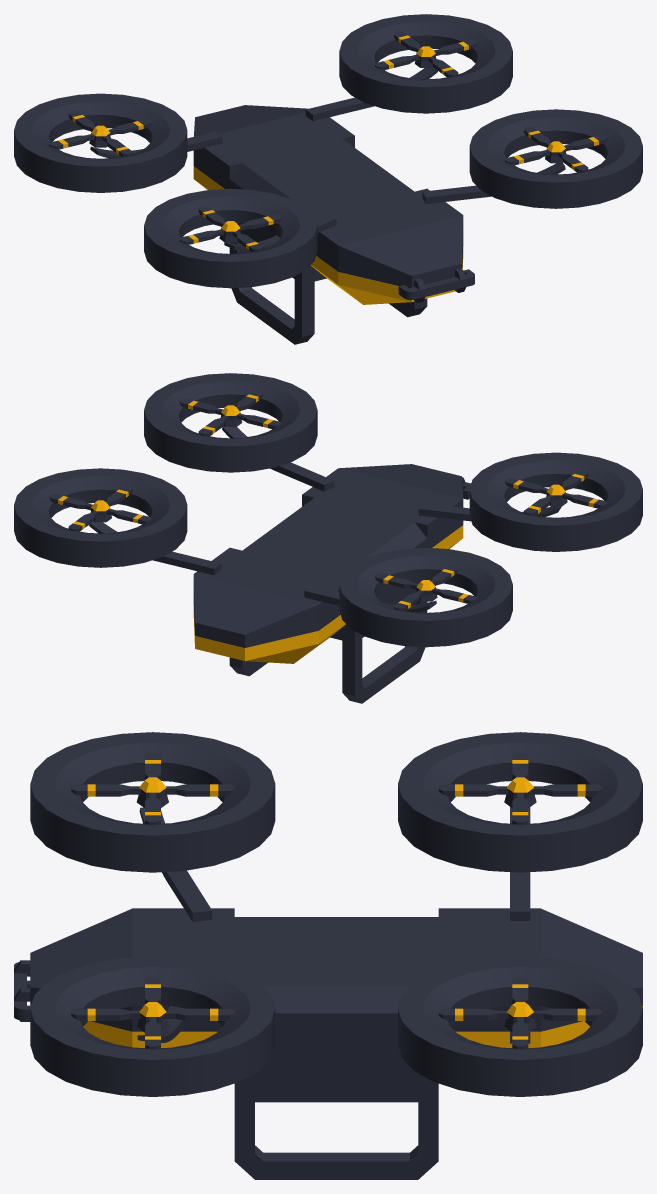
Rendered from Drone_01.fbx.
3 views of the same model, one above another, from view 1: azimuth 30°, elevation 25°; view 2: azimuth 150°, elevation 25°; view 3: azimuth 270°, elevation 25° (orthographic). The views are drawn at different scales.
Visible parts, largest first — view 1: turbine_ring% (×4), hull_lowerFrontPoint (×2), hull_cargoLower, propeller_quad (×4), gear_ski% (×4), bumper_detailed; view 2: turbine_ring% (×4), hull_lowerFrontPoint (×2), hull_cargoLower, propeller_quad (×4), gear_ski% (×4); view 3: turbine_ring% (×4), hull_cargoLower, hull_lowerFrontPoint (×2), propeller_quad (×4), gear_ski% (×2), bumper_detailed.
Part boxes in pixels (x1,y1,x2,y2): turbine_ring% (×4): [14, 14, 642, 288]; hull_lowerFrontPoint (×2): [193, 105, 463, 304]; hull_cargoLower: [229, 138, 427, 344]; propeller_quad (×4): [49, 32, 607, 251]; gear_ski% (×4): [90, 67, 565, 252]; bumper_detailed: [398, 268, 474, 302]; turbine_ring% (×4): [14, 373, 642, 647]; hull_lowerFrontPoint (×2): [193, 464, 463, 663]; hull_cargoLower: [229, 497, 427, 703]; propeller_quad (×4): [49, 391, 607, 610]; gear_ski% (×4): [89, 426, 561, 612]; turbine_ring% (×4): [30, 732, 642, 1096]; hull_cargoLower: [234, 917, 438, 1179]; hull_lowerFrontPoint (×2): [30, 908, 642, 1048]; propeller_quad (×4): [71, 753, 601, 1048]; gear_ski% (×2): [139, 807, 530, 921]; bumper_detailed: [14, 960, 30, 1021].
Size of the model in its own units: 0.38 by 0.1319 by 0.308.
